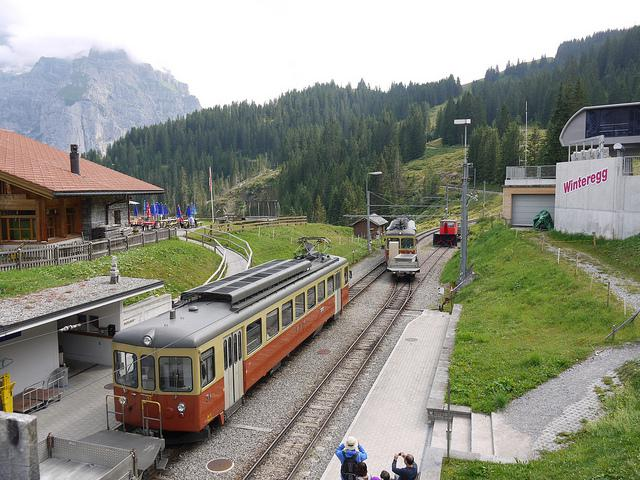Train: (114, 256, 351, 443), (384, 217, 421, 279), (433, 220, 460, 248)
